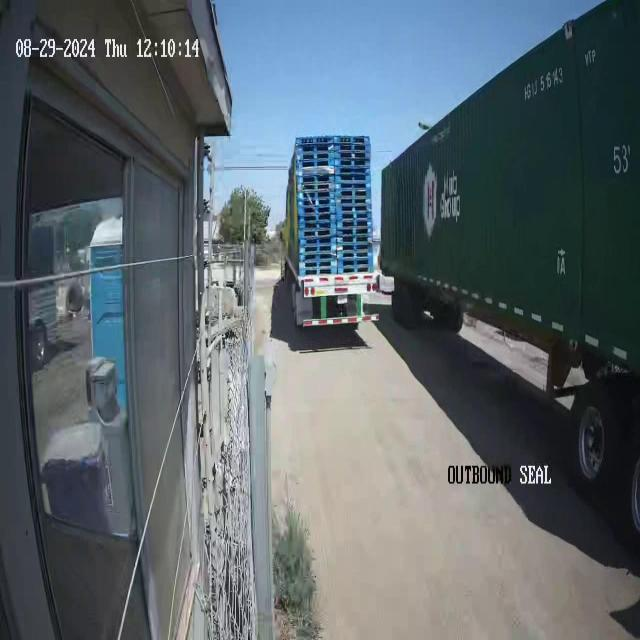TRUCK_IN: (379, 1, 639, 536)
TRUCK_OUT: (275, 128, 369, 346)
